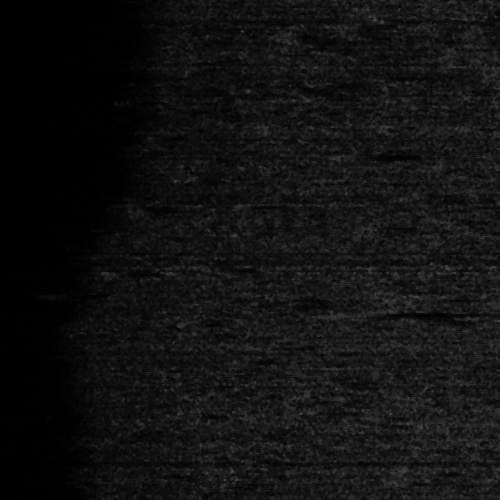object: (335, 308, 398, 317)
shadow: (367, 308, 492, 317)
